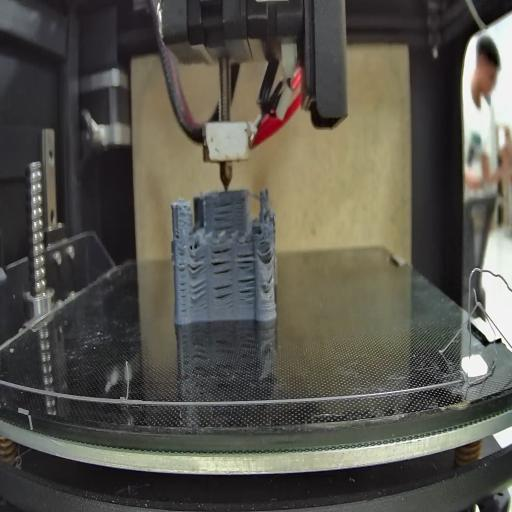cracks: (212, 198, 235, 232), (211, 246, 233, 272), (178, 256, 187, 316), (238, 276, 256, 304), (238, 245, 256, 272), (188, 252, 208, 276), (213, 285, 233, 308), (188, 281, 209, 301), (263, 246, 276, 262), (266, 272, 274, 286), (176, 227, 179, 240)
